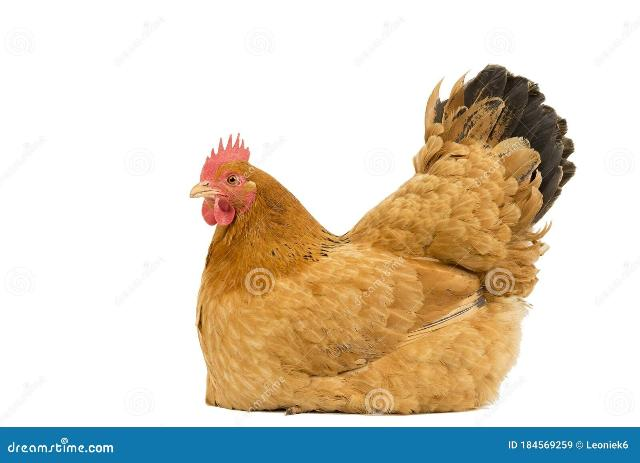Chicken: (189, 62, 574, 416)
